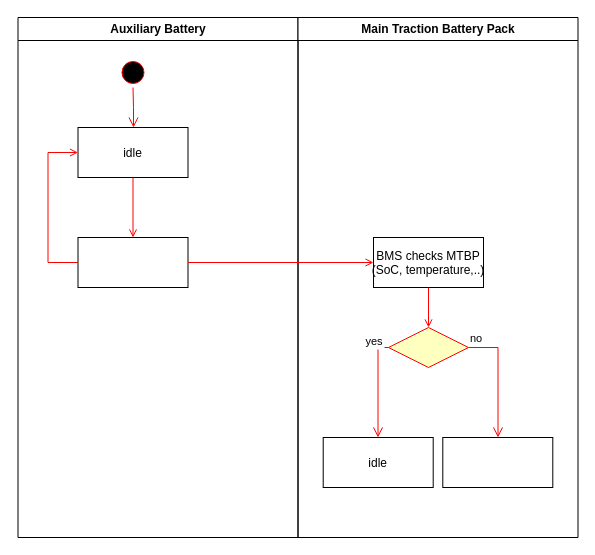
This 595x555 diagram has some shape labels left out. Each missing label, with the centre of its shape:
"pass" goes at [428,347].
"power up low-voltage Systems" goes at [132,262].
"throws error" goes at [497,462].
